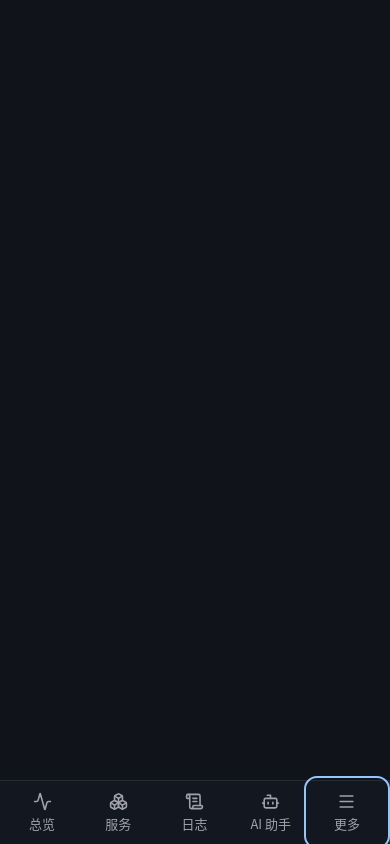
Scenario: 移动端更多功能抽屉可访问性 › 使用有名称的模态对话框并把初始焦点移入抽屉
Click the button with aria-label "更多功能" at (347, 812), box [309,781,385,843]
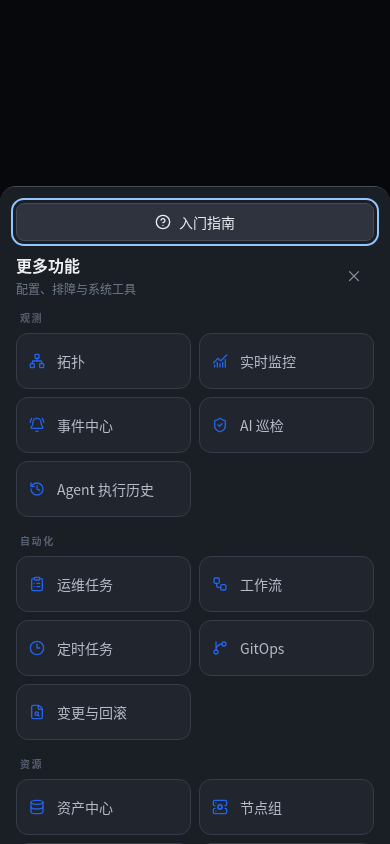
Check: the dialog with id "mobile-more-dialog" is shown
Check: the heading with id "mobile-more-dialog-title" reads "更多功能", box [16,253,80,277]
Check: the button with aria-label "更多功能" is expanded, box [309,781,385,843]
